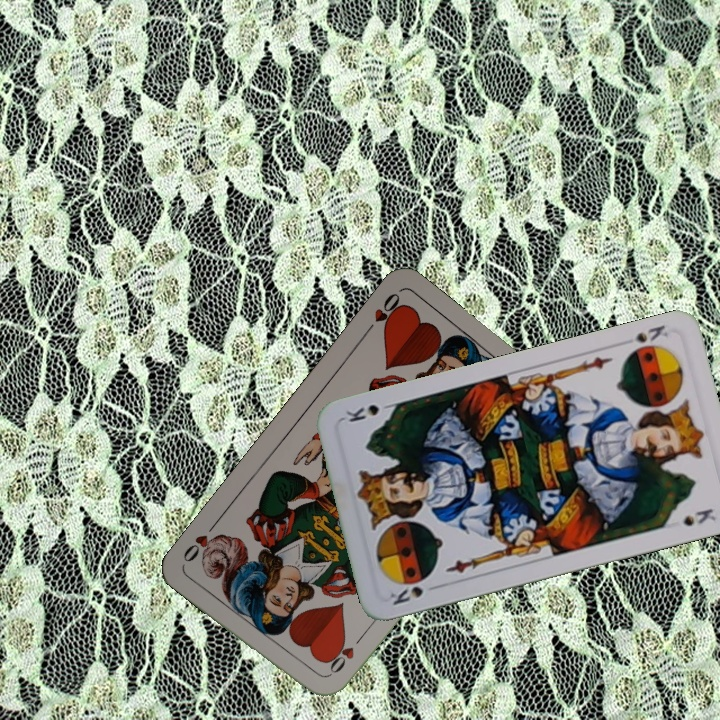HO: (360, 288, 407, 338), (323, 630, 367, 679)
SK: (385, 573, 434, 608), (631, 320, 671, 346)
